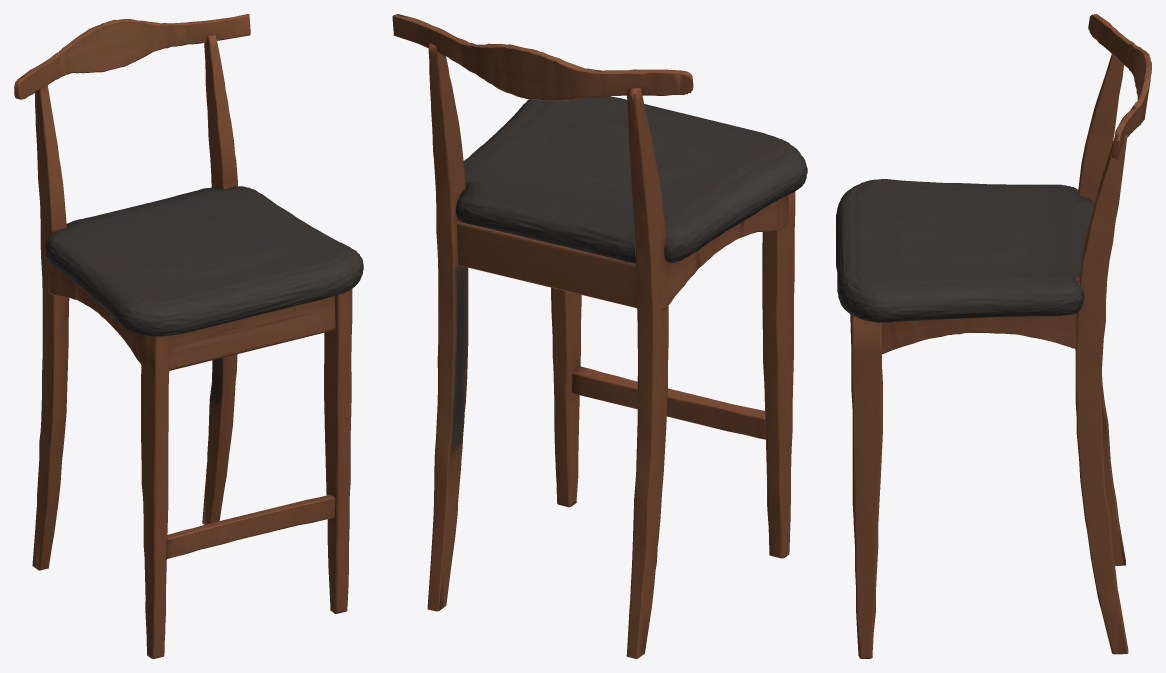
3 renders of one model, left to right at view 1: azimuth 30°, elevation 25°; view 2: azimuth 150°, elevation 25°; view 3: azimuth 270°, elevation 25°, orthographic. The views are drawn at different scales.
Parts seen in each view (by area): view 1: tripo_node_b50beefb-8df7-48ff-ac59-ade8786cb2f2; view 2: tripo_node_b50beefb-8df7-48ff-ac59-ade8786cb2f2; view 3: tripo_node_b50beefb-8df7-48ff-ac59-ade8786cb2f2.
Part boxes in pixels (x1,y1,x2,y2): tripo_node_b50beefb-8df7-48ff-ac59-ade8786cb2f2: [14, 14, 363, 658]; tripo_node_b50beefb-8df7-48ff-ac59-ade8786cb2f2: [392, 14, 807, 658]; tripo_node_b50beefb-8df7-48ff-ac59-ade8786cb2f2: [836, 14, 1151, 658].
Size of the model in its own units: 0.4299 by 0.8548 by 0.45.
Materials: 1 (1 with a texture image).
